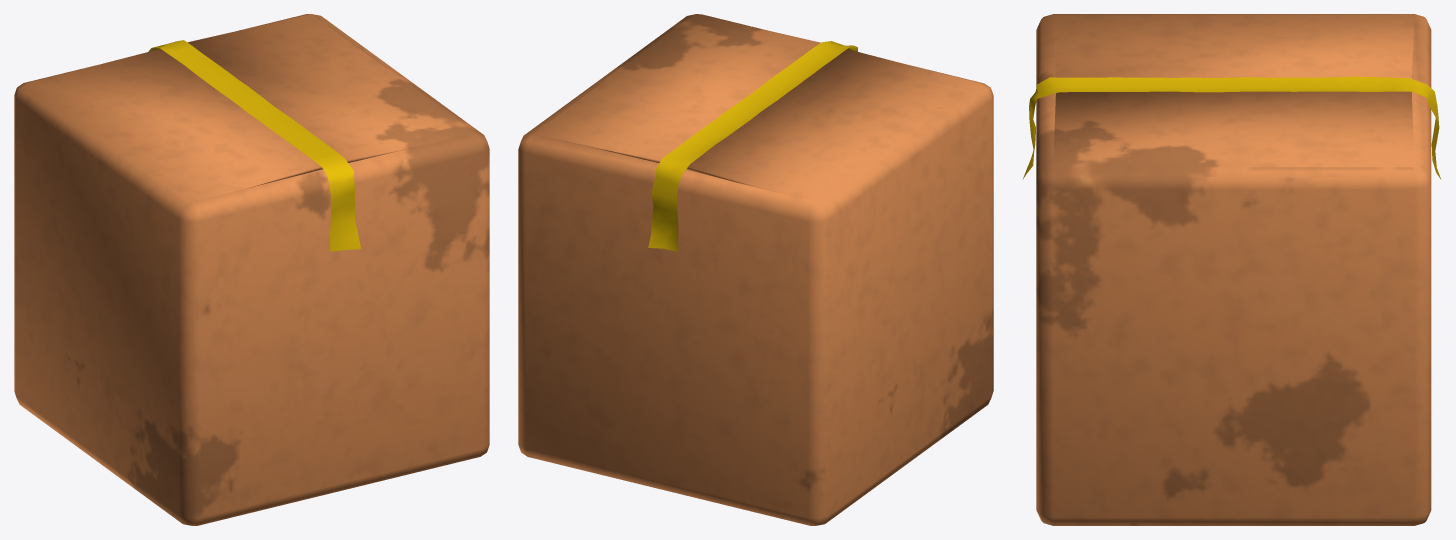
Rendered from CardboardBox(Cube).fbx.
3 views of the same model, side by side, from view 1: azimuth 30°, elevation 25°; view 2: azimuth 150°, elevation 25°; view 3: azimuth 270°, elevation 25° (orthographic). The views are drawn at different scales.
Visible parts, largest first — view 1: Cardboardbox.003; view 2: Cardboardbox.003; view 3: Cardboardbox.003.
Boxes of the visible parts, <box> form: Cardboardbox.003: <box>14,14,489,525</box>; Cardboardbox.003: <box>518,14,993,525</box>; Cardboardbox.003: <box>1023,14,1441,525</box>.
Bounding box in the file's own units: 600 × 612 × 637.
